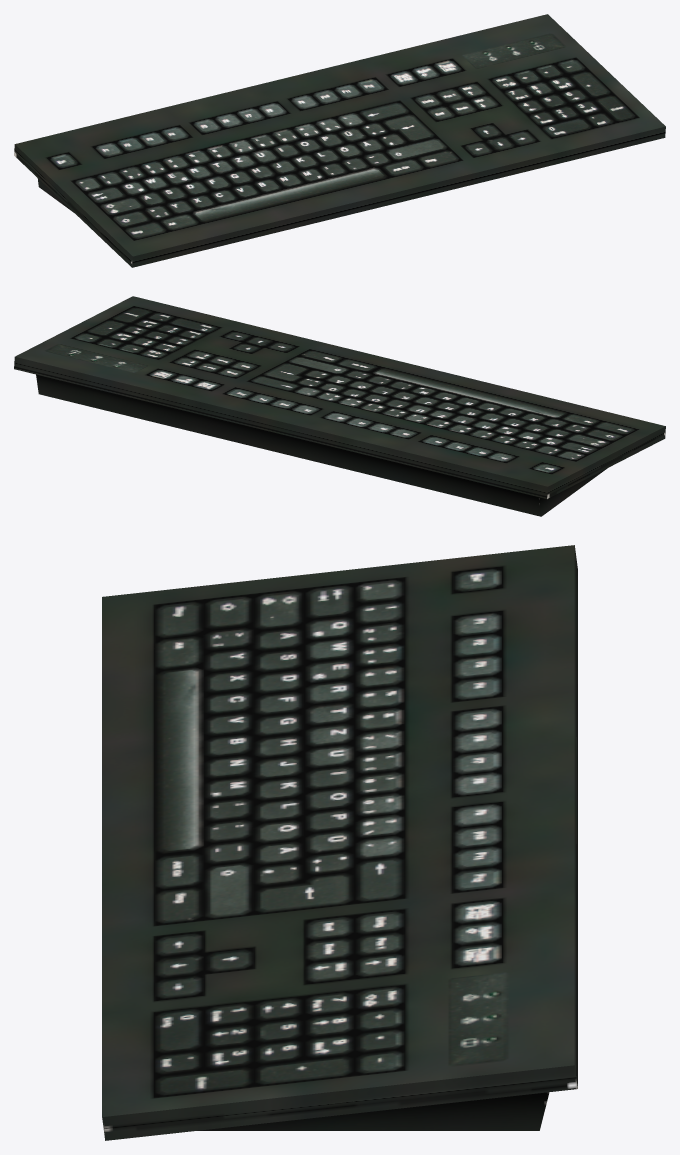
Rendered from tastatur.fbx.
3 renders of one model, top to bottom at view 1: azimuth 30°, elevation 25°; view 2: azimuth 150°, elevation 25°; view 3: azimuth 270°, elevation 25°, orthographic. The views are drawn at different scales.
Visible parts, largest first — view 1: Mesh; view 2: Mesh; view 3: Mesh.
Boxes of the visible parts, box(x1,y1,x2,y2) form: Mesh: box(14, 14, 665, 267); Mesh: box(14, 296, 665, 516); Mesh: box(102, 545, 577, 1140).
Size of the model in its own units: 45.24 by 3.26 by 17.48.
